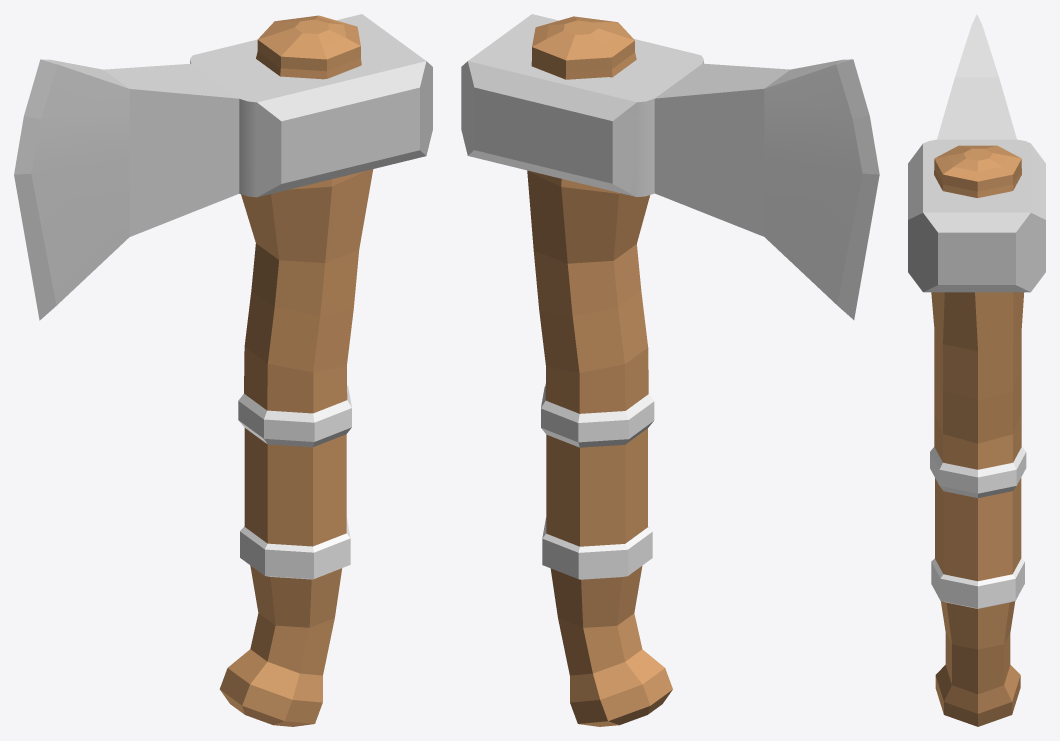
File: Axe.fbx
3 renders of one model, left to right at view 1: azimuth 30°, elevation 25°; view 2: azimuth 150°, elevation 25°; view 3: azimuth 270°, elevation 25°, orthographic. The views are drawn at different scales.
Visible parts, largest first — view 1: polySurface1; view 2: polySurface1; view 3: polySurface1.
Boxes of the visible parts, x1,y1,x2,y2 form: polySurface1: (14,14,432,726); polySurface1: (461,14,879,726); polySurface1: (908,14,1045,726).
Bounding box in the file's own units: 5.12 × 8.92 × 1.84.
